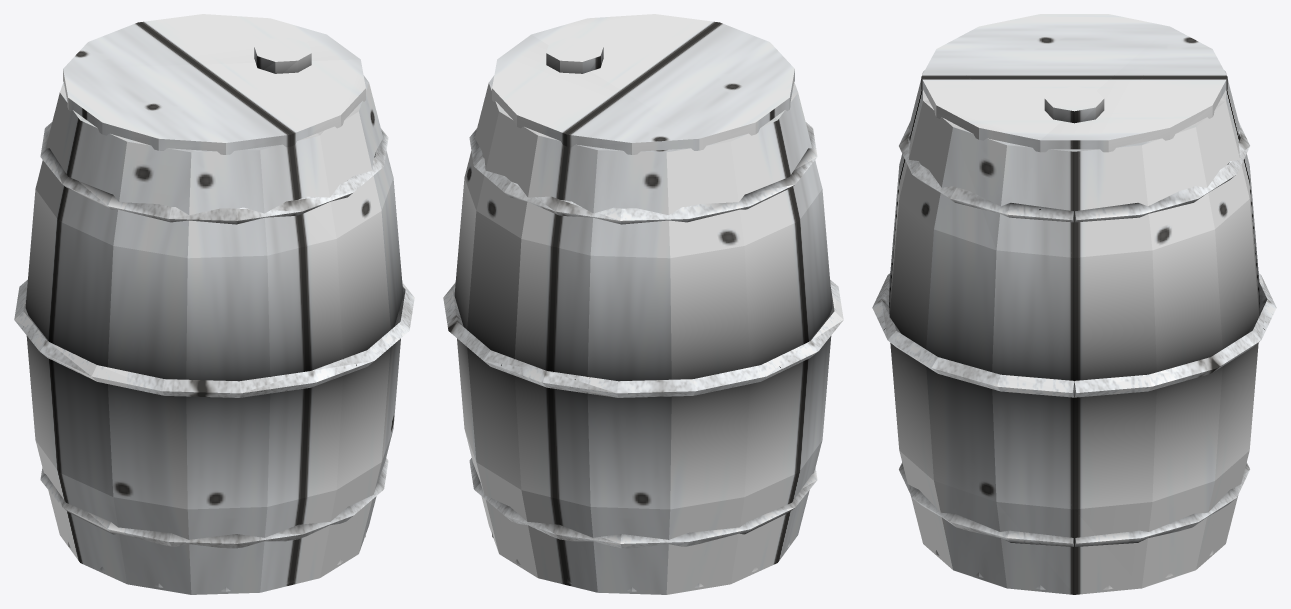
3 renders of one model, left to right at view 1: azimuth 30°, elevation 25°; view 2: azimuth 150°, elevation 25°; view 3: azimuth 270°, elevation 25°, orthographic.
Visible parts, largest first — view 1: barrel_M_wood, barrel_M_wood_dark, barrel_M_iron; view 2: barrel_M_wood, barrel_M_wood_dark, barrel_M_iron; view 3: barrel_M_wood, barrel_M_wood_dark, barrel_M_iron.
Part boxes in pixels (<box>): barrel_M_wood: <box>25,75,403,594</box>; barrel_M_wood_dark: <box>63,14,365,591</box>; barrel_M_iron: <box>14,122,414,548</box>; barrel_M_wood: <box>454,75,832,594</box>; barrel_M_wood_dark: <box>492,14,794,591</box>; barrel_M_iron: <box>443,122,843,548</box>; barrel_M_wood: <box>889,70,1259,594</box>; barrel_M_wood_dark: <box>921,14,1227,589</box>; barrel_M_iron: <box>872,122,1276,546</box>.
Size of the model in its own units: 0.6117 by 0.775 by 0.612.
Materials: 3 (3 with a texture image).
